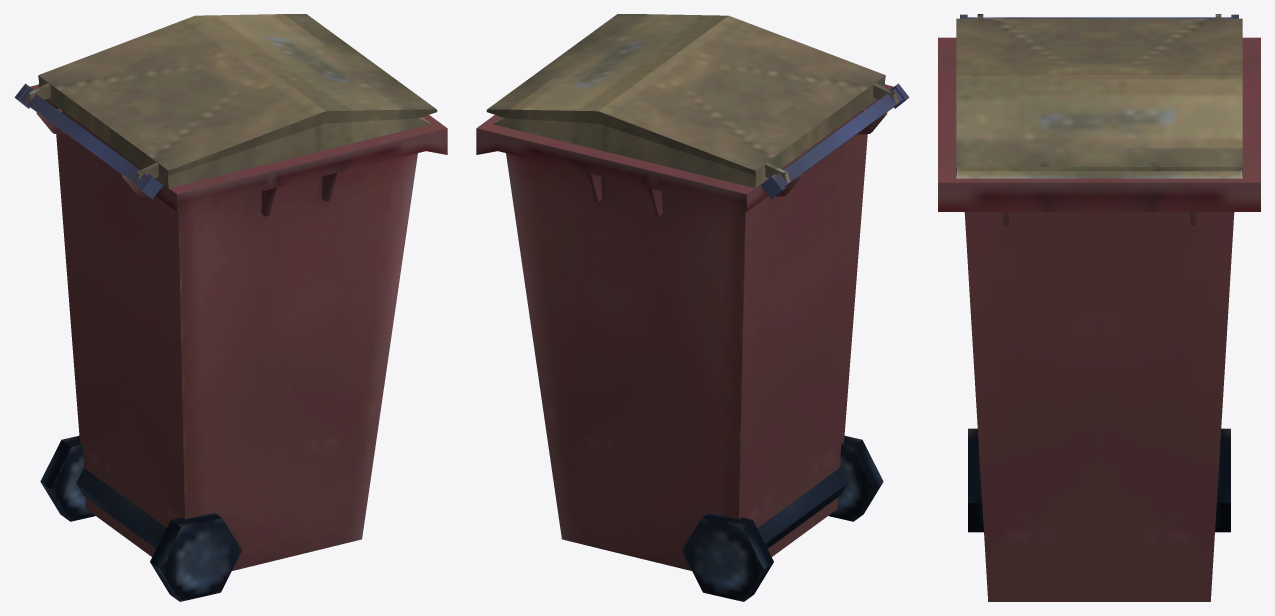
Rendered from Urban_TrashCanAlt2_Model.fbx.
3 views of the same model, side by side, from view 1: azimuth 30°, elevation 25°; view 2: azimuth 150°, elevation 25°; view 3: azimuth 270°, elevation 25° (orthographic). The views are drawn at different scales.
Visible parts, largest first — view 1: Urban_TrashCanAlt2_Mesh; view 2: Urban_TrashCanAlt2_Mesh; view 3: Urban_TrashCanAlt2_Mesh.
Part boxes in pixels (<box>): Urban_TrashCanAlt2_Mesh: <box>14,14,447,601</box>; Urban_TrashCanAlt2_Mesh: <box>476,14,909,601</box>; Urban_TrashCanAlt2_Mesh: <box>938,14,1260,601</box>.
Bounding box in the file's own units: 0.9058 × 1.35 × 0.7794.
